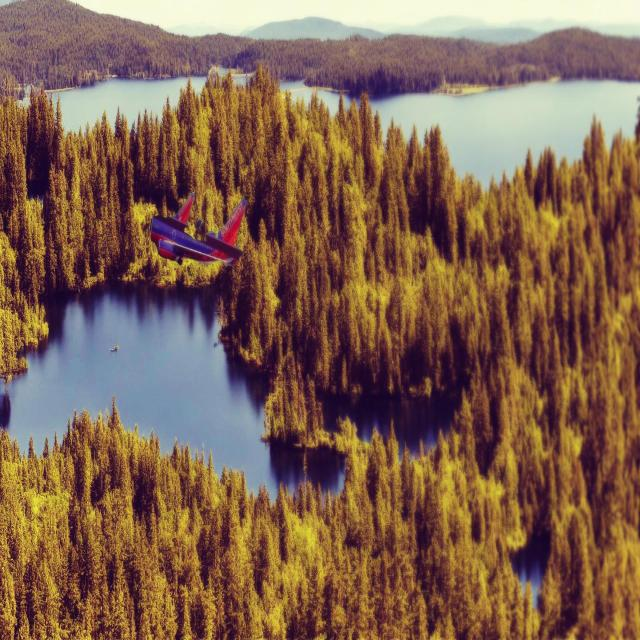airplane: (149, 191, 248, 267)
